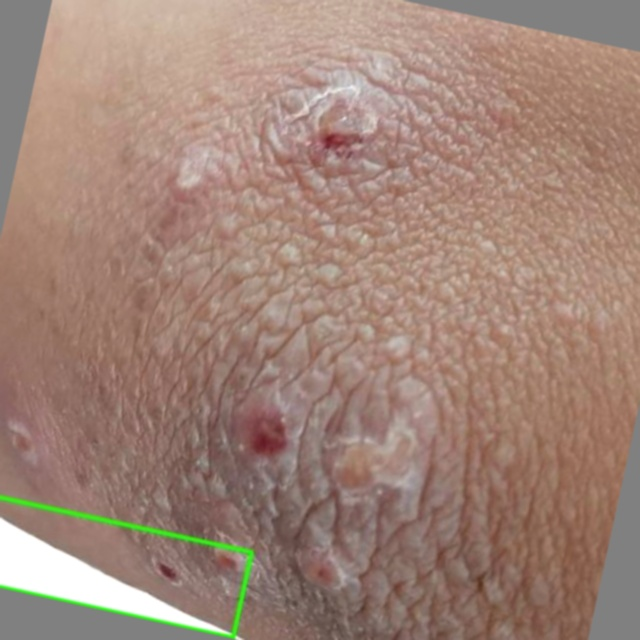Contact Dermatitis: (0, 497, 252, 637)
